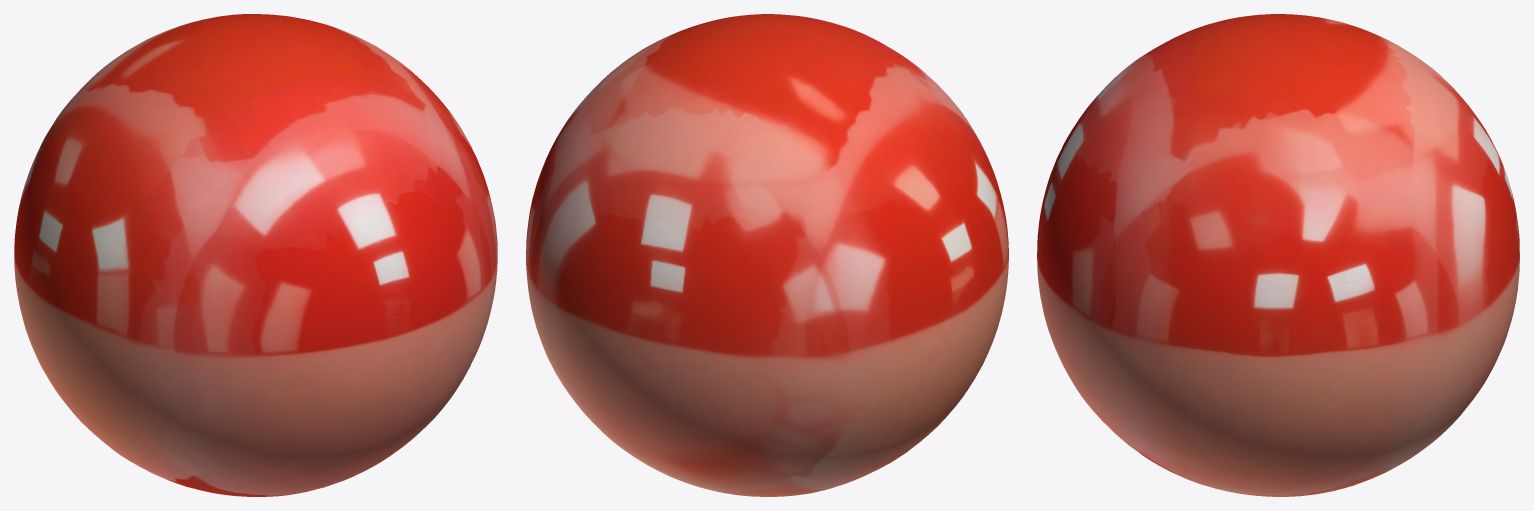
3 views of the same model, side by side, from view 1: azimuth 30°, elevation 25°; view 2: azimuth 150°, elevation 25°; view 3: azimuth 270°, elevation 25° (orthographic).
Parts seen in each view (by area): view 1: Mesh_0; view 2: Mesh_0; view 3: Mesh_0.
Boxes of the visible parts, x1,y1,x2,y2 form: Mesh_0: (14,14,497,496); Mesh_0: (526,14,1008,496); Mesh_0: (1037,14,1519,496).
Size of the model in its own units: 201 by 200 by 201.
1 material, 1 textured.
